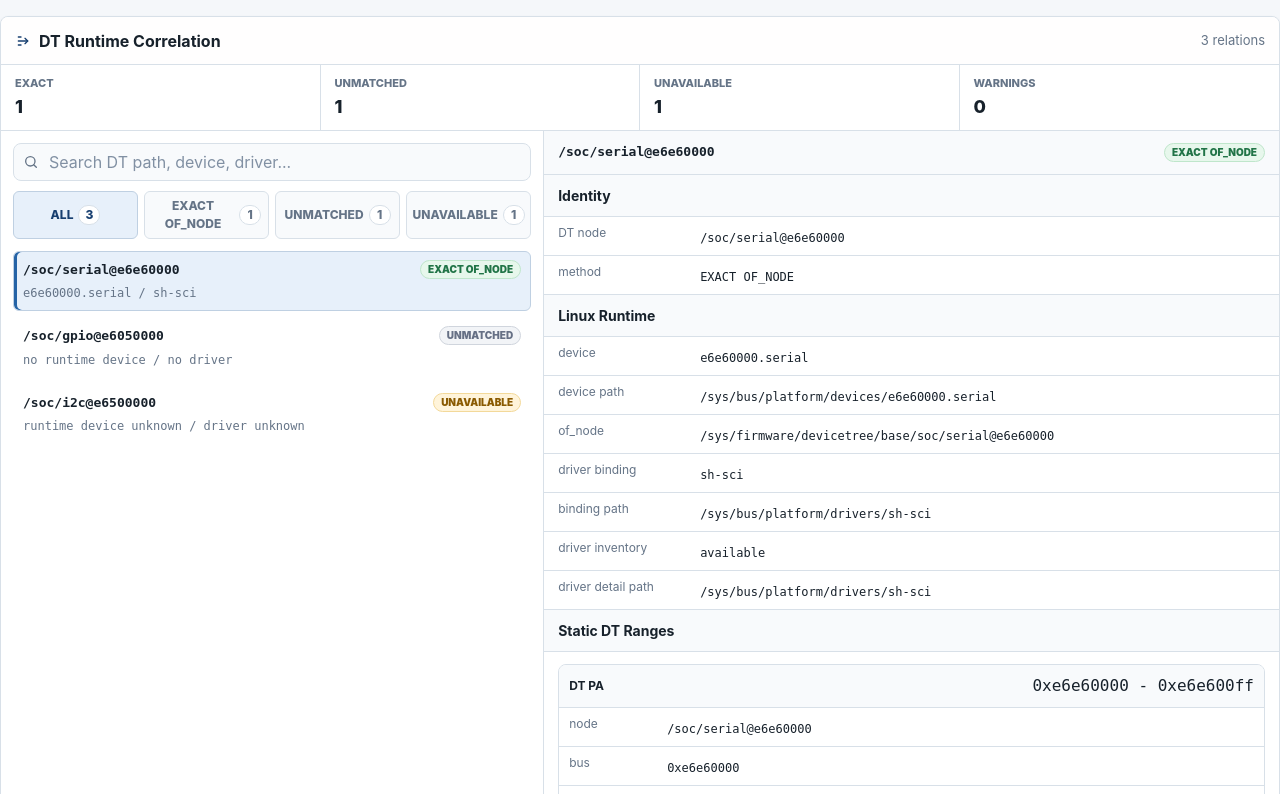
Test: CorrelationView › filters by status without rendering unavailable as unmatched
Expected: the button "/soc/serial@e6e60000 EXACT OF_NODE e6e60000.serial / sh-sci" is shown, [13, 250, 531, 311]
Click the button "unavailable 1" at (469, 214), box [406, 190, 531, 238]
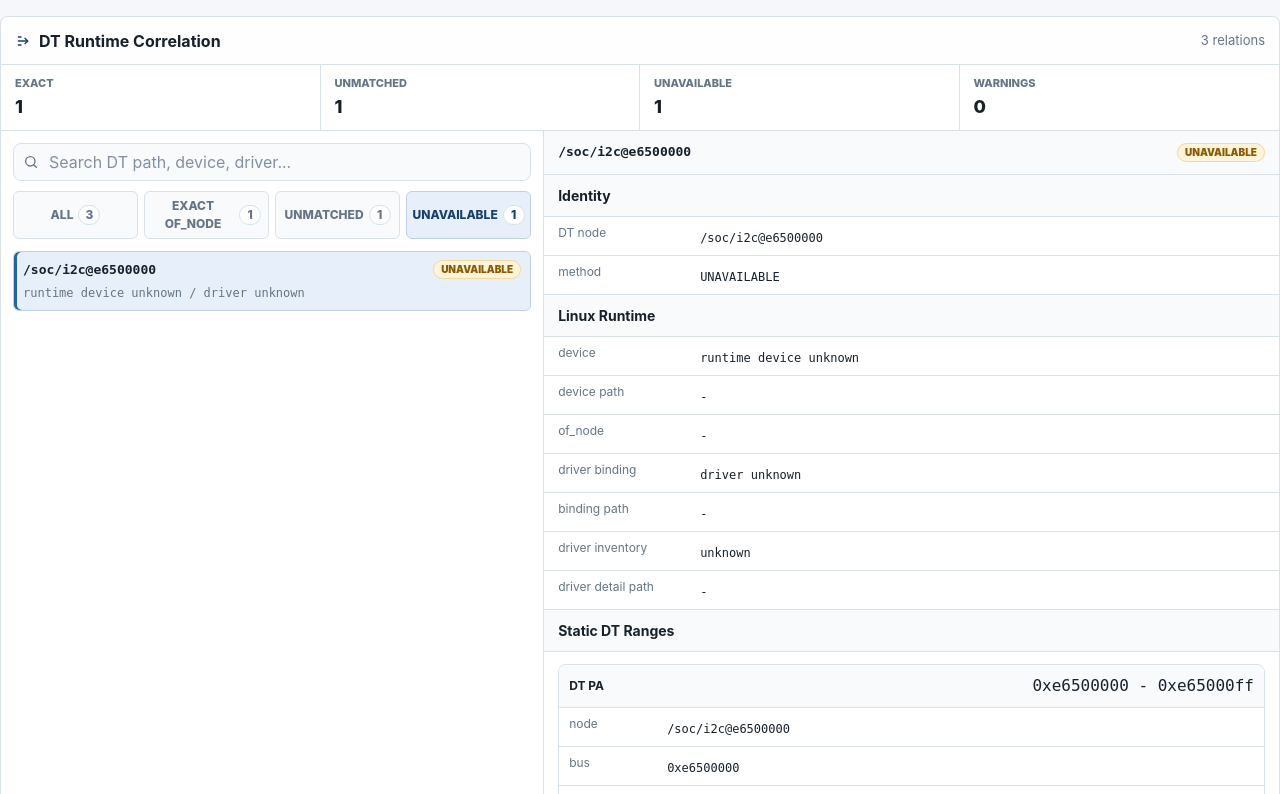
Expected: the button "/soc/gpio@e6050000" is gone
Expected: the element named "Correlation detail" shows "UNAVAILABLE", [1185, 146, 1257, 158]
Expected: the element named "Correlation detail" shows "runtime device unknown", [700, 350, 859, 364]
